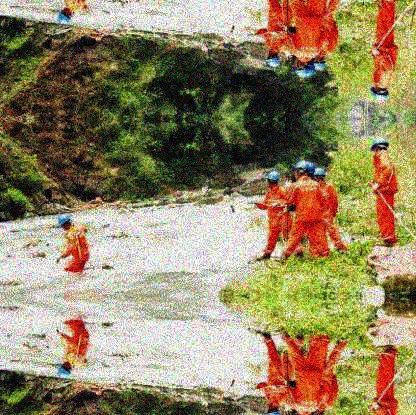helmet: (371, 83, 390, 102), (294, 58, 310, 79), (371, 138, 390, 155), (265, 48, 280, 67), (57, 213, 72, 231), (265, 171, 280, 188), (58, 361, 72, 378), (57, 7, 71, 24), (294, 161, 308, 178), (316, 56, 328, 71), (315, 167, 326, 182)
